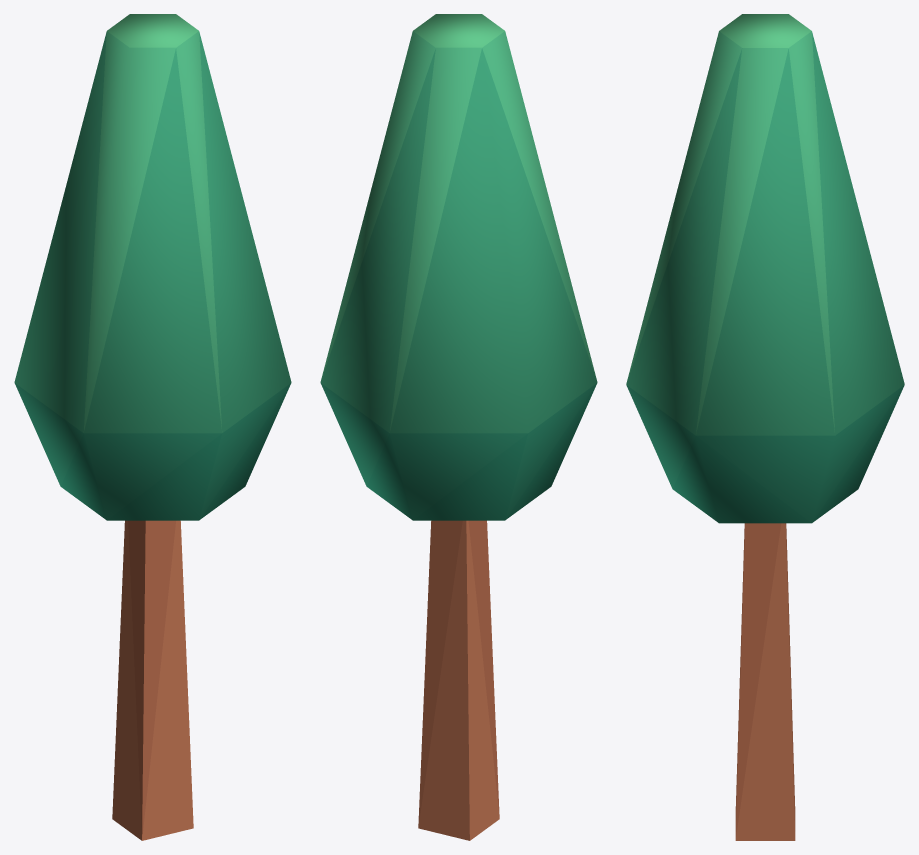
File: tree-large.obj
The picture shows the model from 3 angles, left to right: view 1: azimuth 30°, elevation 25°; view 2: azimuth 150°, elevation 25°; view 3: azimuth 270°, elevation 25°; orthographic projection.
Size of the model in its own units: 0.2104 by 0.767 by 0.243.
